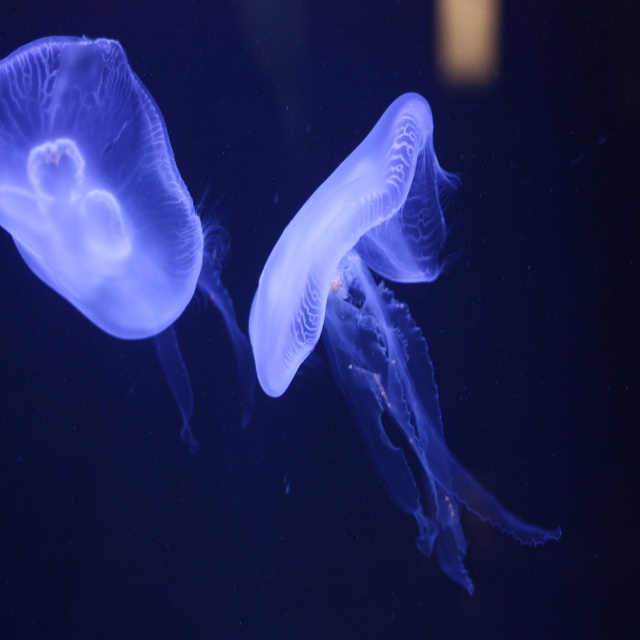Jellyfish: (248, 89, 562, 591), (0, 34, 249, 459)
